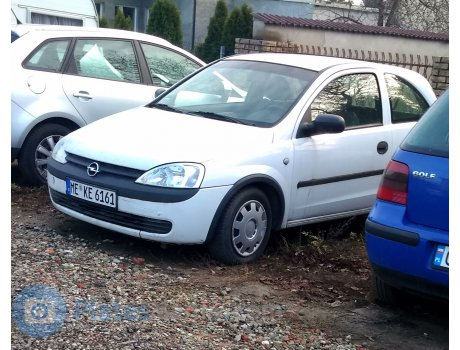License Plates: (63, 181, 120, 207)
